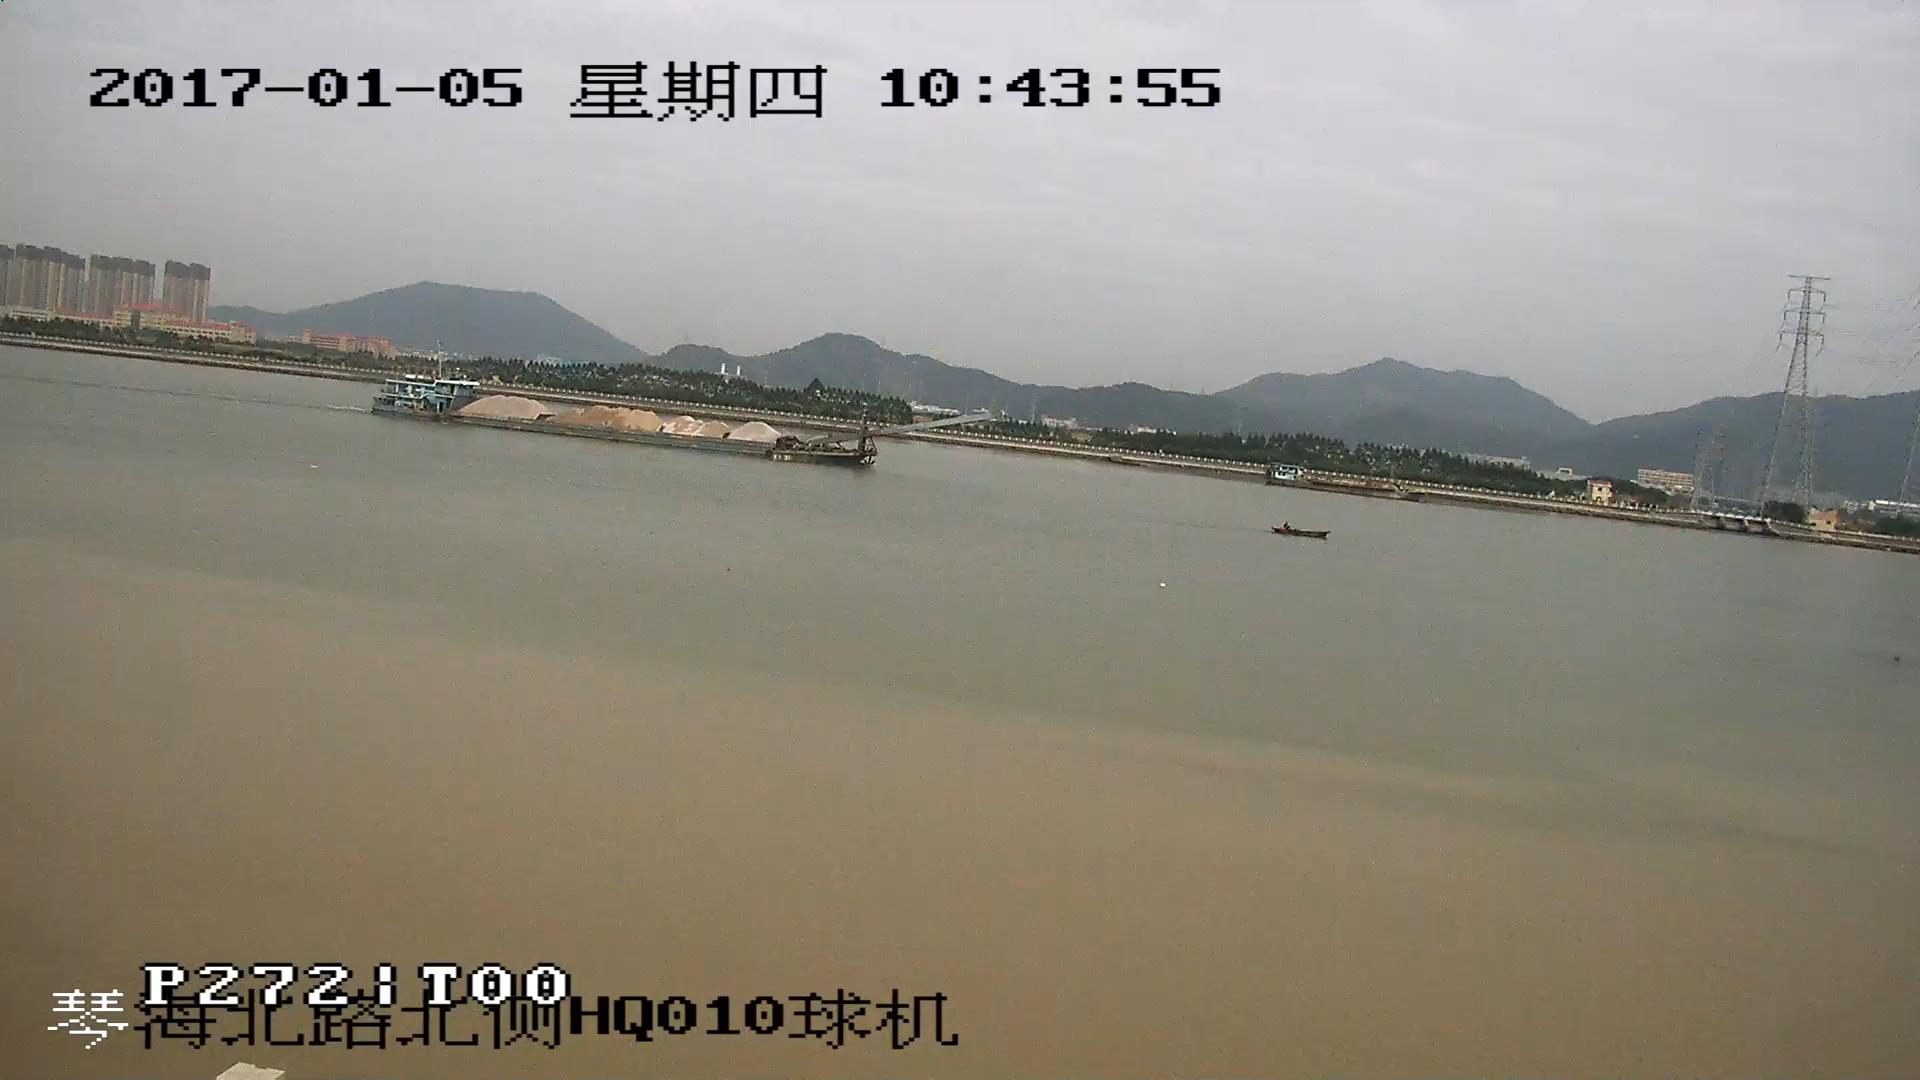fishing boat: (1272, 519, 1338, 546)
ore carrier: (372, 368, 972, 465)
